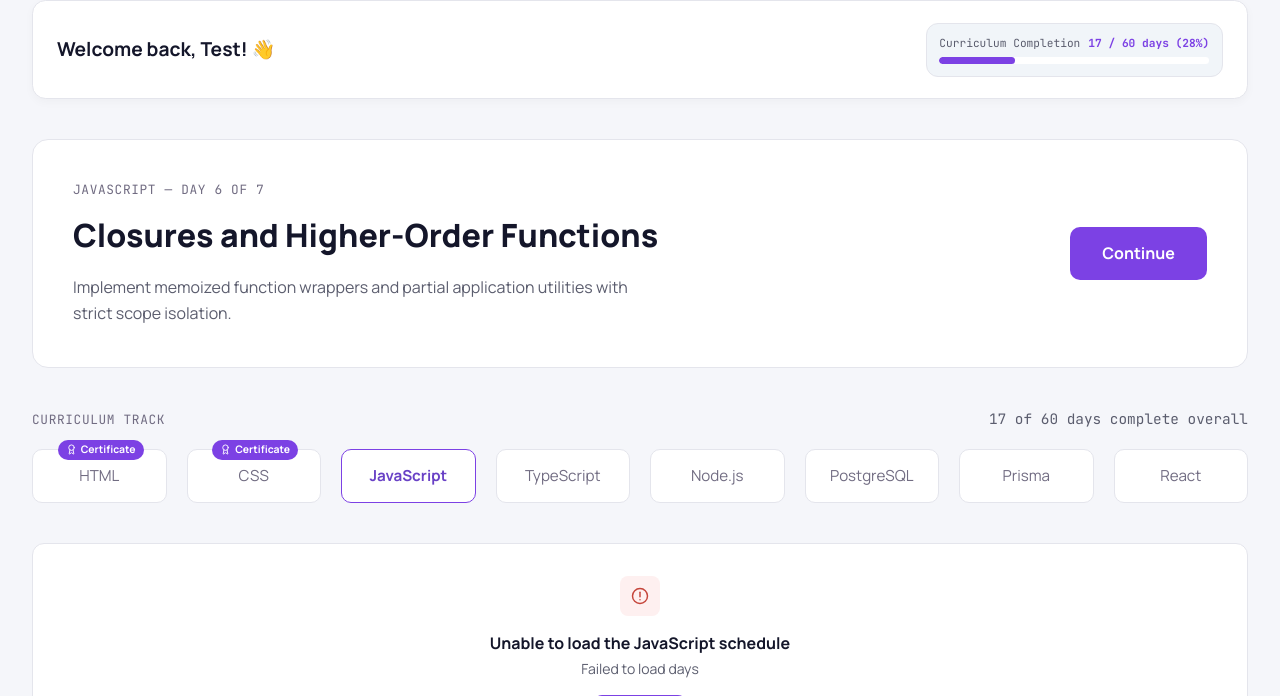
Test: DashboardPage › loads a course again when its tab is reopened after a failed load
This screenshot has width=1280, height=696.
Expected: the text "Failed to load days" is shown, [581,659,699,678]
What coordinates should you click on to do the following:
click the tab "Node.js"
I would click on:
 (717, 476)
Its box is [650,449,784,503].
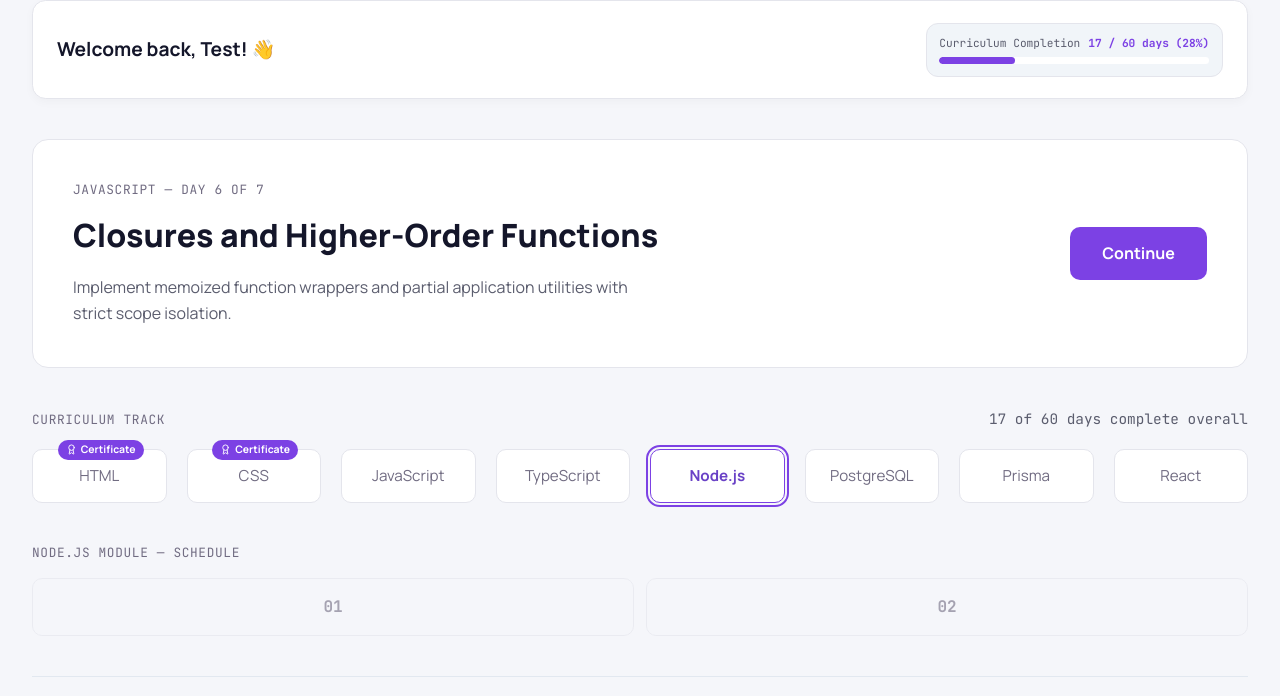
Expected: the text "Node.js Module — Schedule" is shown, [32,544,240,561]
What coordinates should you click on to do the following:
click the tab "JavaScript"
I would click on:
 (408, 476)
Its box is [341,449,476,503].
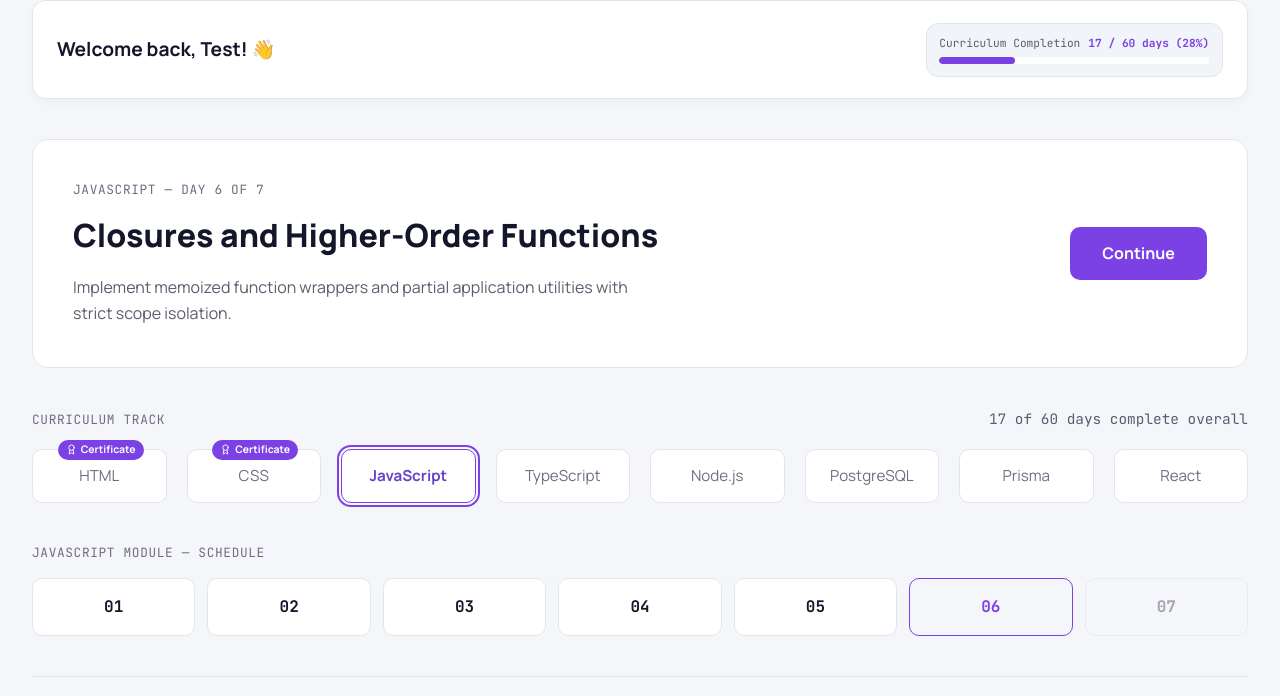
Expected: the text "JavaScript Module — Schedule" is shown, [32,544,265,561]
